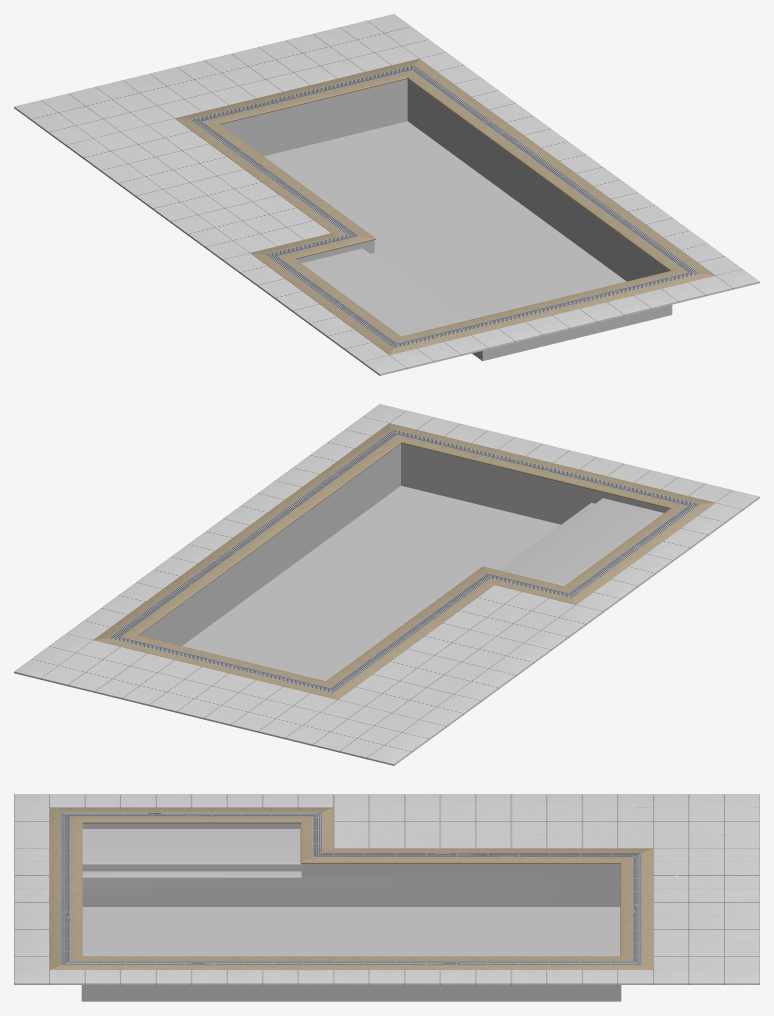
The model's file is PoolDesign02.FBX.
The picture shows the model from 3 angles, top to bottom: view 1: azimuth 30°, elevation 25°; view 2: azimuth 150°, elevation 25°; view 3: azimuth 270°, elevation 25°; orthographic projection.
Parts seen in each view (by area): view 1: PoolDesign02; view 2: PoolDesign02; view 3: PoolDesign02.
Part boxes in pixels (x1=…): PoolDesign02: x1=14, y1=14, x2=759, y2=375; PoolDesign02: x1=14, y1=404, x2=759, y2=765; PoolDesign02: x1=14, y1=794, x2=759, y2=1001.
Size of what is drawn, in the model's own units: 13.5 by 1.5 by 22.5.
